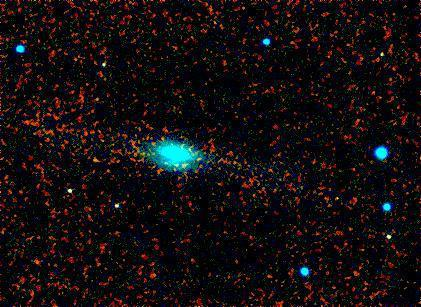star: (83, 146, 113, 176)
